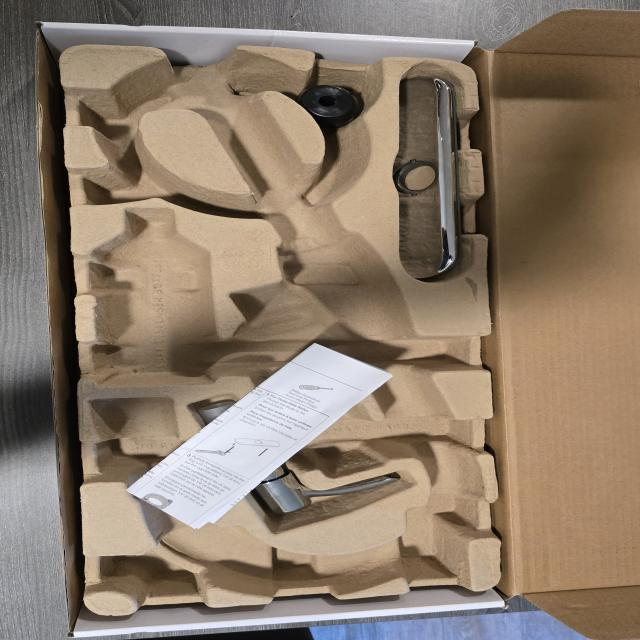1m: (88, 48, 481, 596)
2o: (198, 400, 402, 515)
3m: (86, 207, 212, 390)
4: (394, 77, 458, 280)
5: (295, 84, 364, 128)
6m: (73, 76, 181, 141)
7m: (84, 150, 215, 211)
8: (121, 341, 394, 529)
